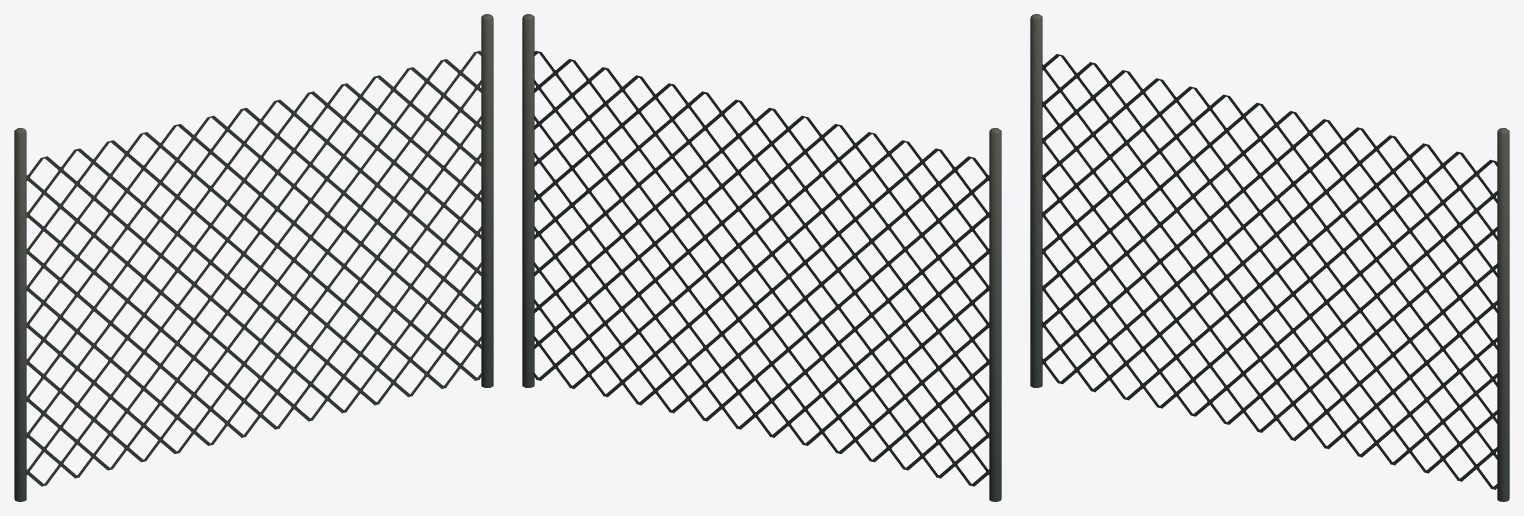
Rendered from Fance.fbx.
3 views of the same model, side by side, from view 1: azimuth 30°, elevation 25°; view 2: azimuth 150°, elevation 25°; view 3: azimuth 330°, elevation 25° (orthographic).
Parts seen in each view (by area): view 1: Circle; view 2: Circle; view 3: Circle.
Part boxes in pixels (x1,y1,x2,y2): Circle: (14,14,493,501); Circle: (522,14,1001,501); Circle: (1030,14,1509,501).
Bounding box in the file's own units: 8.97 × 6.65 × 0.2072.
Materials: 1 (1 with a texture image).
